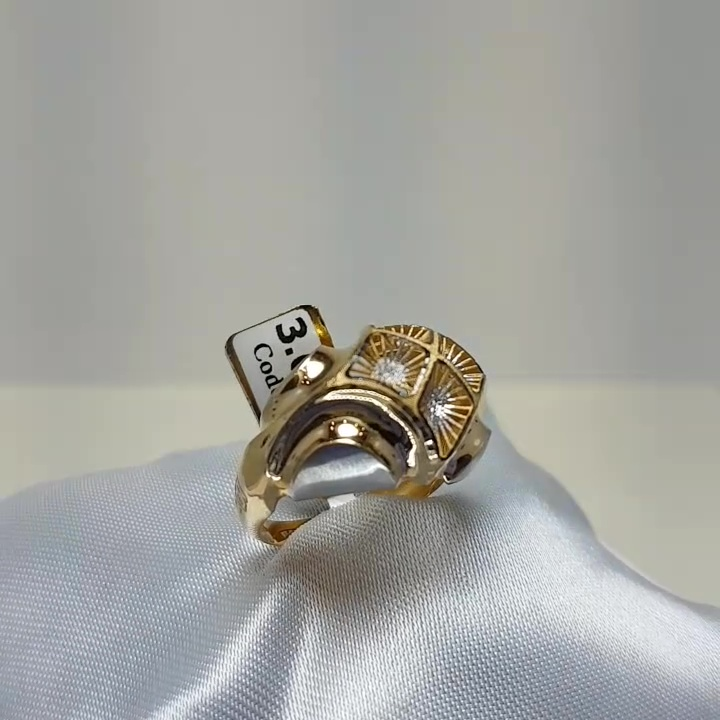Ring 2: (222, 311, 521, 544)
